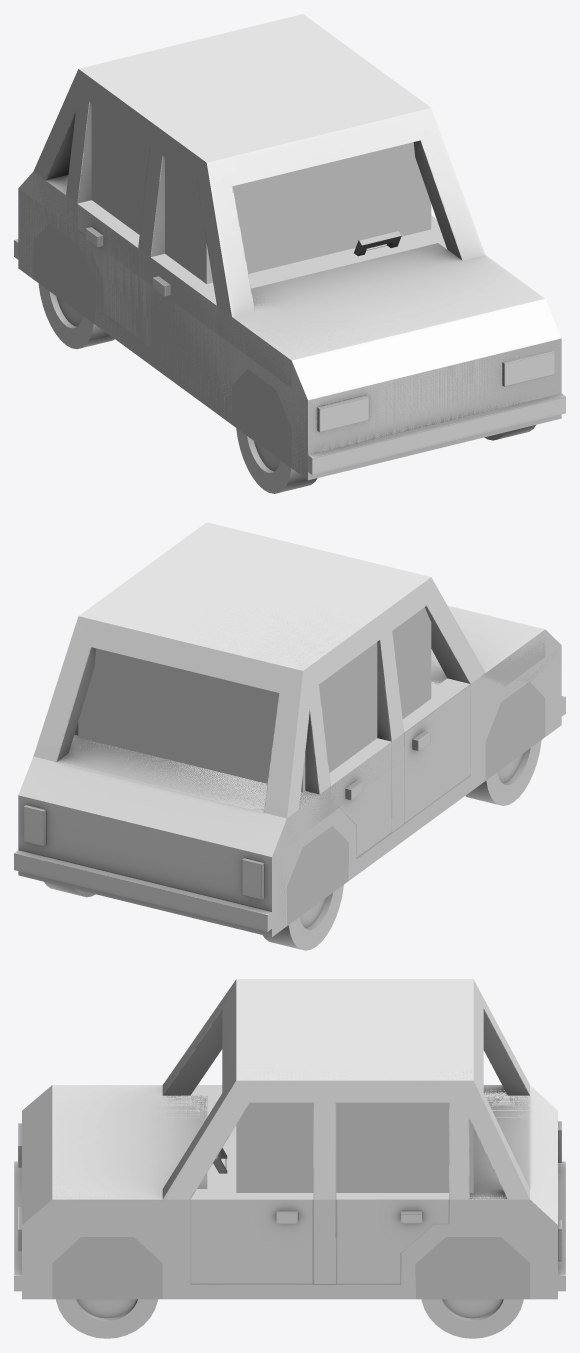
Rendered from car.glb.
The picture shows the model from 3 angles, top to bottom: view 1: azimuth 30°, elevation 25°; view 2: azimuth 150°, elevation 25°; view 3: azimuth 270°, elevation 25°; orthographic projection. The views are drawn at different scales.
Parts seen in each view (by area): view 1: body, Cube.006, Cube.002, Cube.004, door_4, door_2, wheel_fr, wheel, Steering wheel; view 2: body, Cube.002, Cube.006, Cube.004, door_2, door_4, wheel, wheel_fr; view 3: body, Cube.002, Cube.006, door_1, door_3, Cube.004, Cylinder.001, wheel_fl.
Part boxes in pixels (bbox=[...]): body: bbox=[14, 14, 565, 476]; Cube.006: bbox=[18, 188, 561, 480]; Cube.002: bbox=[91, 17, 431, 283]; Cube.004: bbox=[33, 173, 447, 387]; door_4: bbox=[77, 204, 138, 338]; door_2: bbox=[150, 272, 216, 396]; wheel_fr: bbox=[236, 428, 317, 493]; wheel: bbox=[38, 283, 114, 349]; Steering wheel: bbox=[354, 230, 401, 256]; body: bbox=[14, 522, 565, 937]; Cube.002: bbox=[78, 593, 431, 792]; Cube.006: bbox=[275, 647, 561, 933]; Cube.004: bbox=[58, 638, 545, 844]; door_2: bbox=[404, 684, 470, 823]; door_4: bbox=[331, 742, 391, 857]; wheel: bbox=[263, 885, 343, 950]; wheel_fr: bbox=[465, 740, 541, 805]; body: bbox=[14, 979, 565, 1299]; Cube.002: bbox=[236, 1064, 473, 1192]; Cube.006: bbox=[52, 1237, 529, 1299]; door_1: bbox=[190, 1199, 313, 1283]; door_3: bbox=[336, 1199, 448, 1283]; Cube.004: bbox=[52, 1085, 529, 1199]; Cylinder.001: bbox=[421, 1299, 523, 1338]; wheel_fl: bbox=[56, 1299, 157, 1338].
Bounding box in the file's own units: 1.28 × 1.26 × 2.49.
2 materials, 2 textured.
